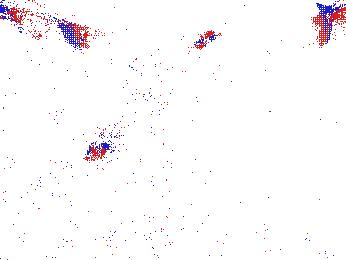glassfish: (76, 149, 186, 199)
red belly glassfish: (177, 30, 216, 53), (133, 94, 169, 111), (77, 27, 90, 46)
redtail glassfish: (1, 1, 96, 54), (315, 1, 346, 48)
